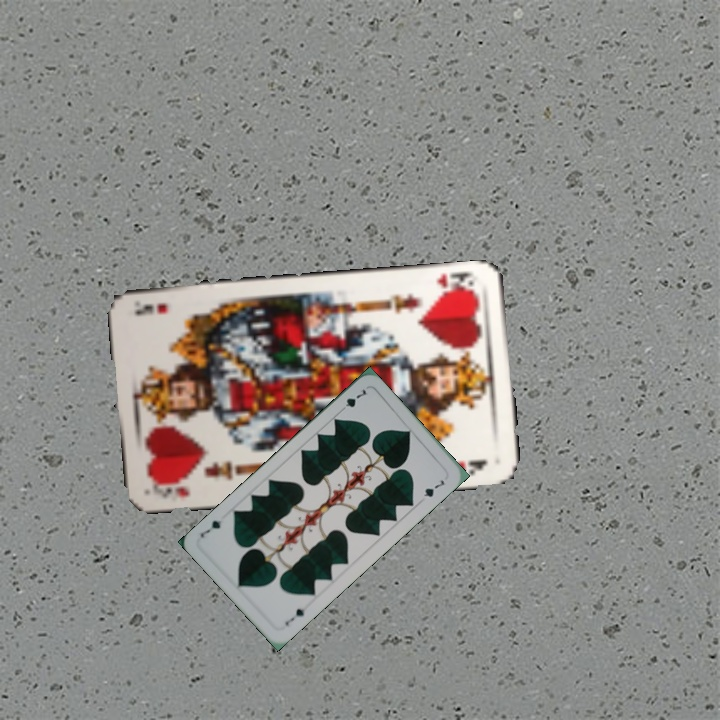G7: (335, 385, 371, 415), (281, 602, 311, 630)
HK: (434, 268, 477, 297), (152, 476, 193, 500)
